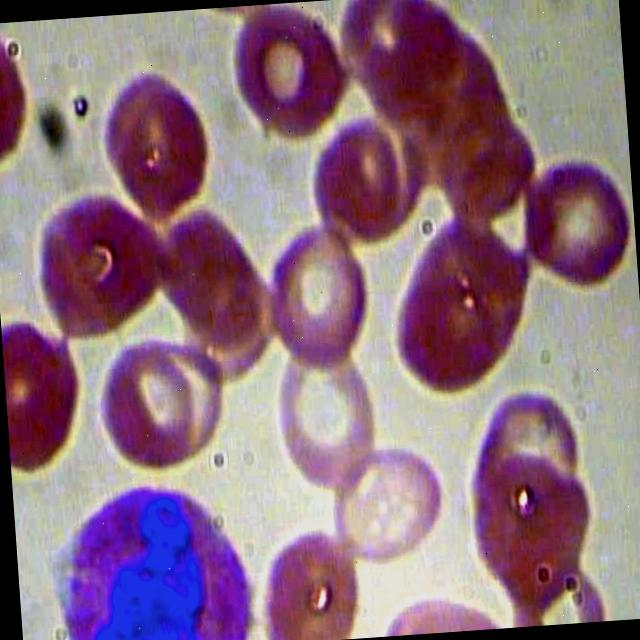RBC: (382, 203, 538, 403), (26, 182, 178, 354), (266, 325, 386, 500), (92, 62, 218, 224), (259, 218, 381, 370), (515, 142, 637, 292), (300, 100, 422, 248), (227, 0, 349, 147), (324, 430, 454, 564), (243, 514, 374, 640), (91, 332, 202, 474), (0, 317, 89, 471)
WBC: (35, 475, 268, 640)
